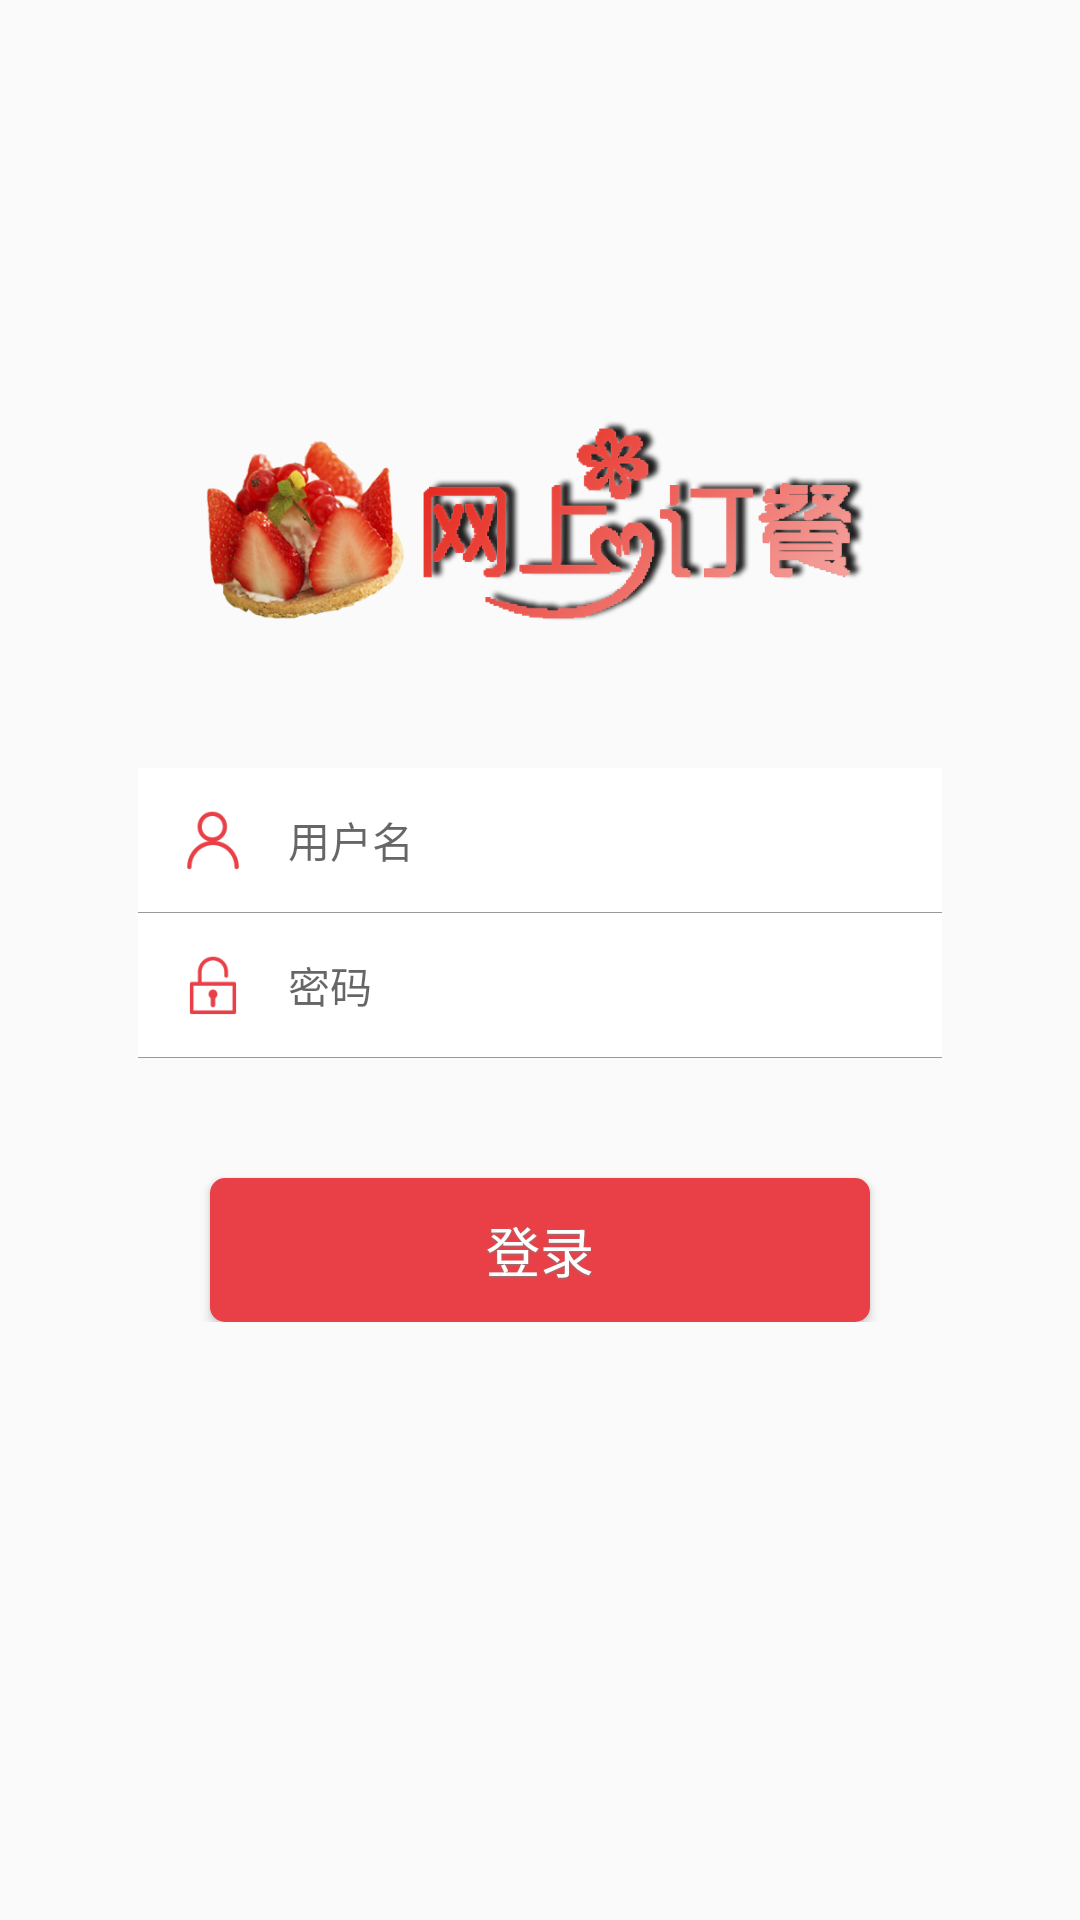

Icons on this 1080*1920 Android screen, each with its box as (x1, y1, x2, y2):
password: (190, 956, 236, 1014)
user: (187, 811, 239, 869)
